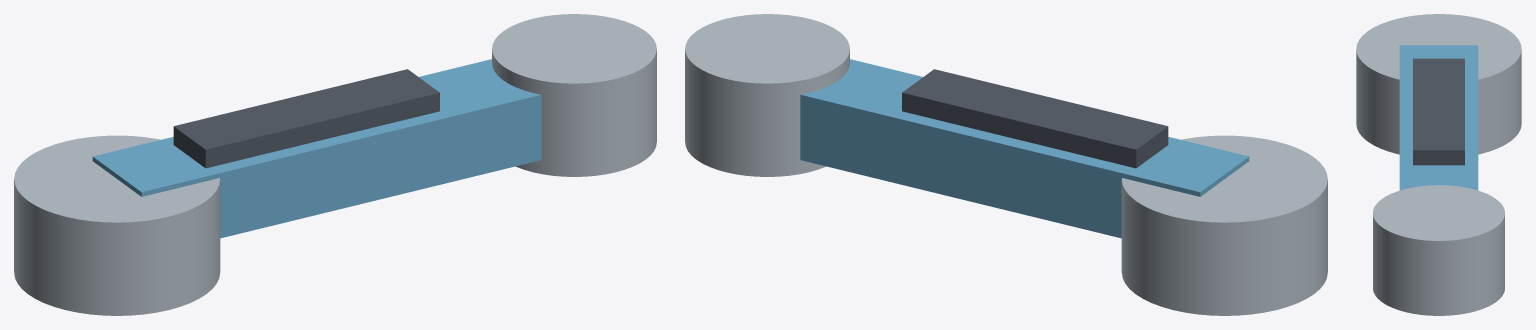
The model's file is shoulder.glb.
3 views of the same model, side by side, from view 1: azimuth 30°, elevation 25°; view 2: azimuth 150°, elevation 25°; view 3: azimuth 270°, elevation 25° (orthographic). The views are drawn at different scales.
Parts seen in each view (by area): view 1: dummy_shoulder_0, dummy_shoulder_1, dummy_shoulder_2, dummy_shoulder_3; view 2: dummy_shoulder_0, dummy_shoulder_1, dummy_shoulder_2, dummy_shoulder_3; view 3: dummy_shoulder_2, dummy_shoulder_1, dummy_shoulder_0, dummy_shoulder_3.
Part boxes in pixels (left/top/right/bottom): dummy_shoulder_0: left=92, top=59, right=541, bottom=238; dummy_shoulder_1: left=14, top=135, right=220, bottom=315; dummy_shoulder_2: left=492, top=14, right=656, bottom=176; dummy_shoulder_3: left=173, top=69, right=439, bottom=168; dummy_shoulder_0: left=800, top=59, right=1249, bottom=238; dummy_shoulder_1: left=1121, top=135, right=1327, bottom=315; dummy_shoulder_2: left=685, top=14, right=849, bottom=176; dummy_shoulder_3: left=902, top=69, right=1168, bottom=168; dummy_shoulder_2: left=1373, top=185, right=1504, bottom=315; dummy_shoulder_1: left=1356, top=14, right=1521, bottom=154; dummy_shoulder_0: left=1399, top=45, right=1478, bottom=190; dummy_shoulder_3: left=1413, top=58, right=1464, bottom=165.
Size of the model in its own units: 0.277 by 0.05 by 0.08.
